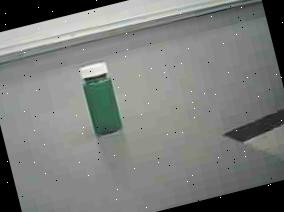Bottle C: (70, 54, 136, 146)
